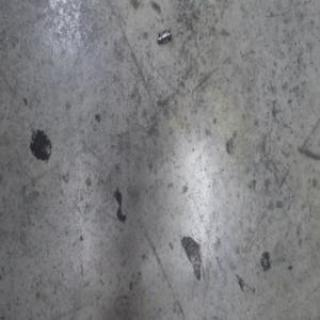Bolttrack_idkeyframe: (156, 25, 172, 44)
